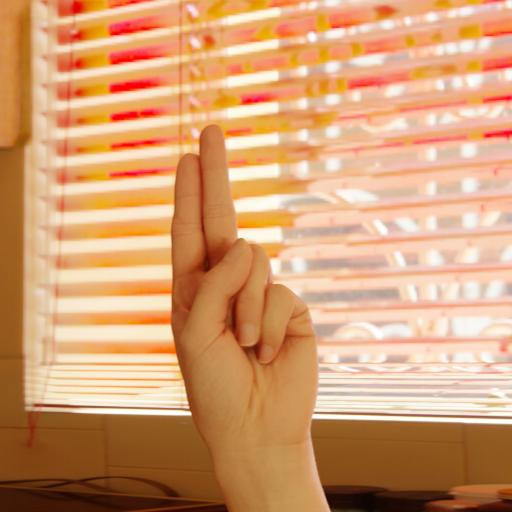U: (161, 118, 326, 464)
